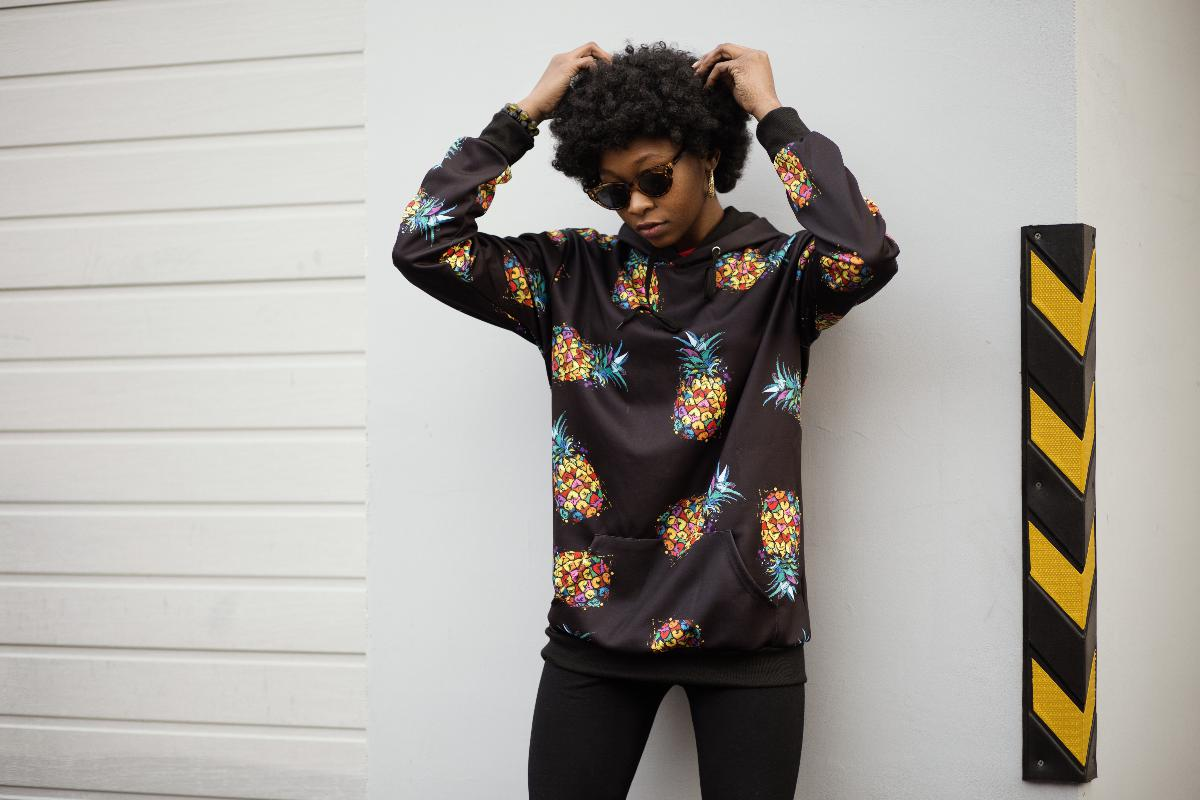Person: (392, 41, 902, 800)
